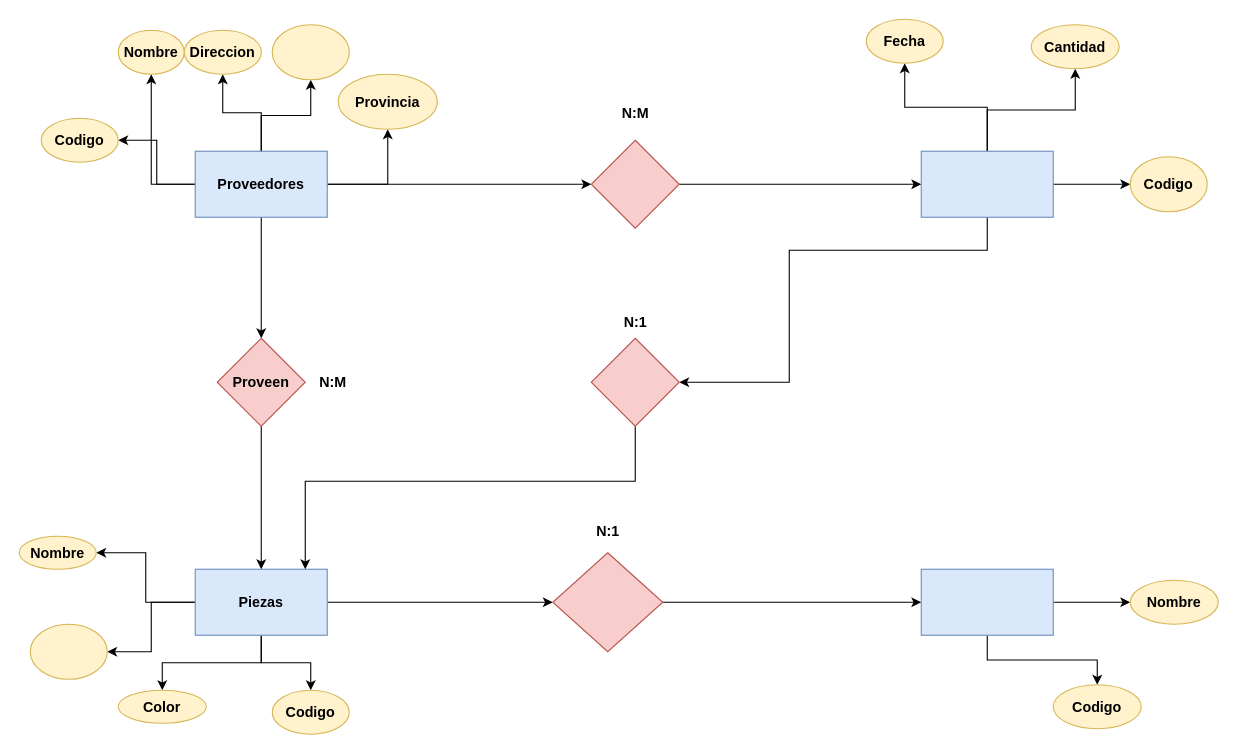
The diagram is 1238 pixels wide and 754 high, and some of its shapes have lost their labels. Each missing label, with the centre of its shape:
"Categorias" belongs at [986,601].
"Ciudad" belongs at [310,52].
"Hace" belongs at [634,183].
"Incluyen" belongs at [634,381].
"Pertenecen a" belongs at [607,602].
"Precio" belongs at [68,651].
"Suministros" belongs at [986,183].
